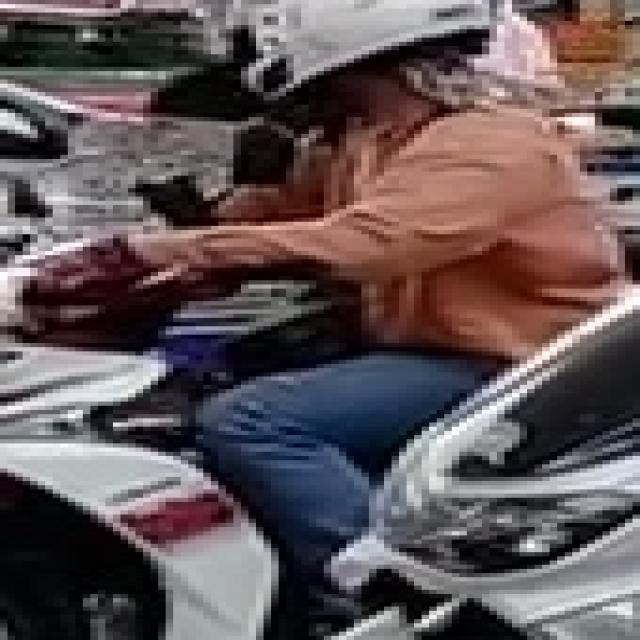helmet: (362, 280, 632, 578), (226, 0, 512, 100)
tyre: (0, 464, 166, 636)
